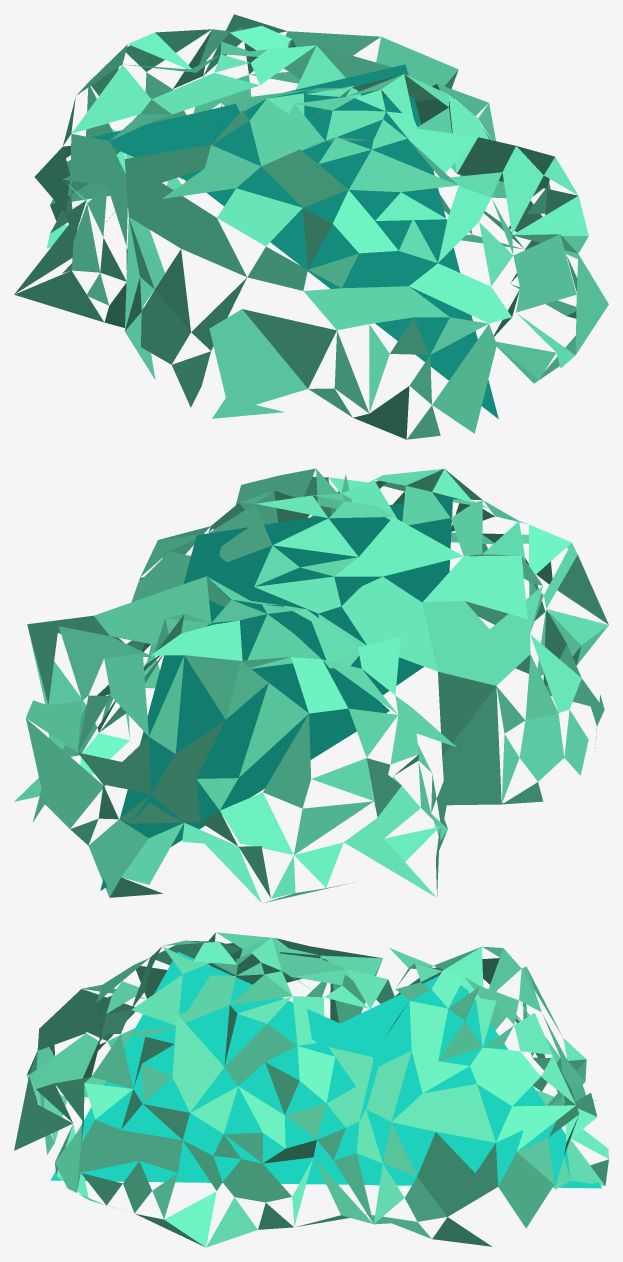
File: WrightBuckwheat_LOD2.fbx
3 views of the same model, one above another, from view 1: azimuth 30°, elevation 25°; view 2: azimuth 150°, elevation 25°; view 3: azimuth 270°, elevation 25° (orthographic). The views are drawn at different scales.
Parts seen in each view (by area): view 1: WrightBuckwheat_LOD2; view 2: WrightBuckwheat_LOD2; view 3: WrightBuckwheat_LOD2.
Part boxes in pixels (x1=…): WrightBuckwheat_LOD2: x1=14, y1=14, x2=608, y2=439; WrightBuckwheat_LOD2: x1=14, y1=468, x2=608, y2=903; WrightBuckwheat_LOD2: x1=14, y1=932, x2=608, y2=1247.
Bounding box in the file's own units: 105 × 41.53 × 74.14.
